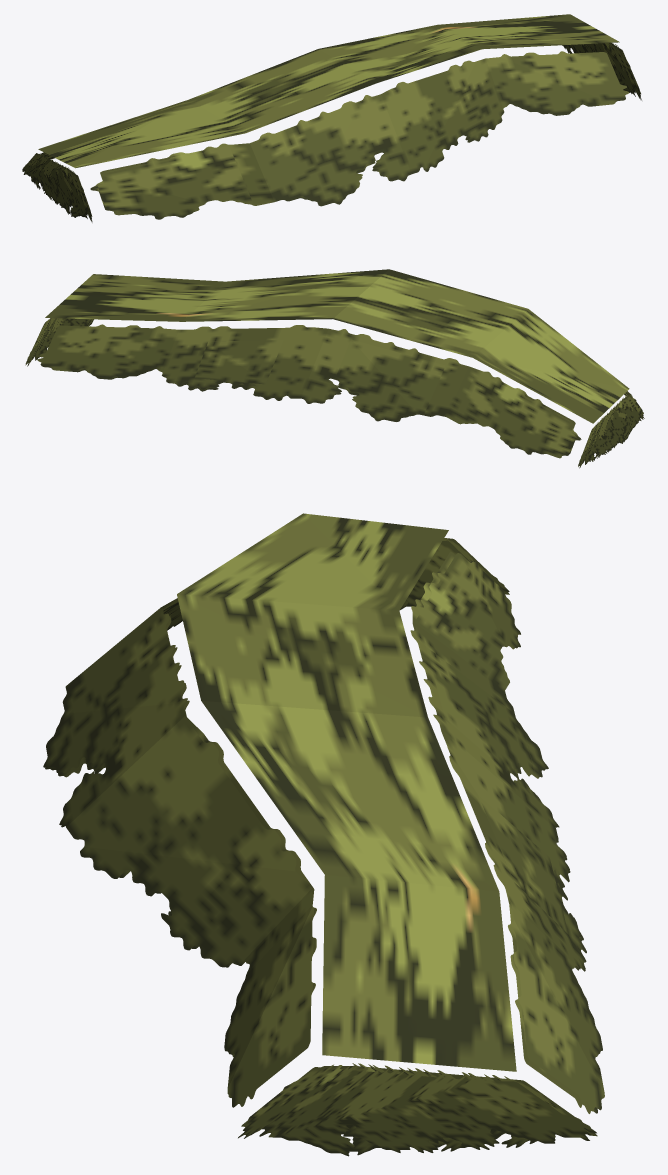
The model's file is SM_VG17_MossOnRoot.fbx.
The picture shows the model from 3 angles, top to bottom: view 1: azimuth 30°, elevation 25°; view 2: azimuth 150°, elevation 25°; view 3: azimuth 270°, elevation 25°; orthographic projection. The views are drawn at different scales.
Visible parts, largest first — view 1: VG17_Moss; view 2: VG17_Moss; view 3: VG17_Moss.
Boxes of the visible parts, x1,y1,x2,y2 form: VG17_Moss: (22, 14, 641, 222); VG17_Moss: (25, 269, 644, 468); VG17_Moss: (43, 513, 604, 1156).
Bounding box in the file's own units: 0.8 × 0.144 × 0.3984.
